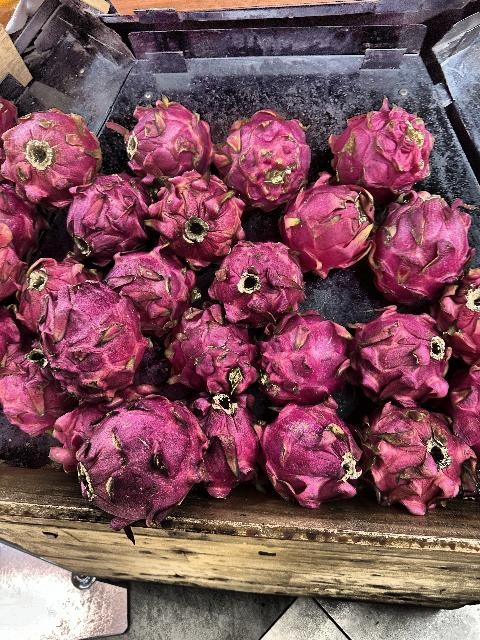buah-naga-matang: (49, 398, 213, 528), (356, 389, 480, 528), (348, 286, 452, 412), (256, 393, 362, 515), (368, 187, 476, 305), (267, 174, 382, 280), (35, 288, 152, 392), (322, 94, 436, 198), (207, 107, 317, 207), (102, 87, 214, 181), (1, 107, 101, 203), (149, 168, 245, 268), (261, 296, 349, 400), (209, 240, 306, 334), (168, 297, 257, 393), (66, 168, 156, 262), (100, 244, 202, 326), (188, 386, 262, 494), (1, 342, 67, 440), (20, 257, 108, 325)
